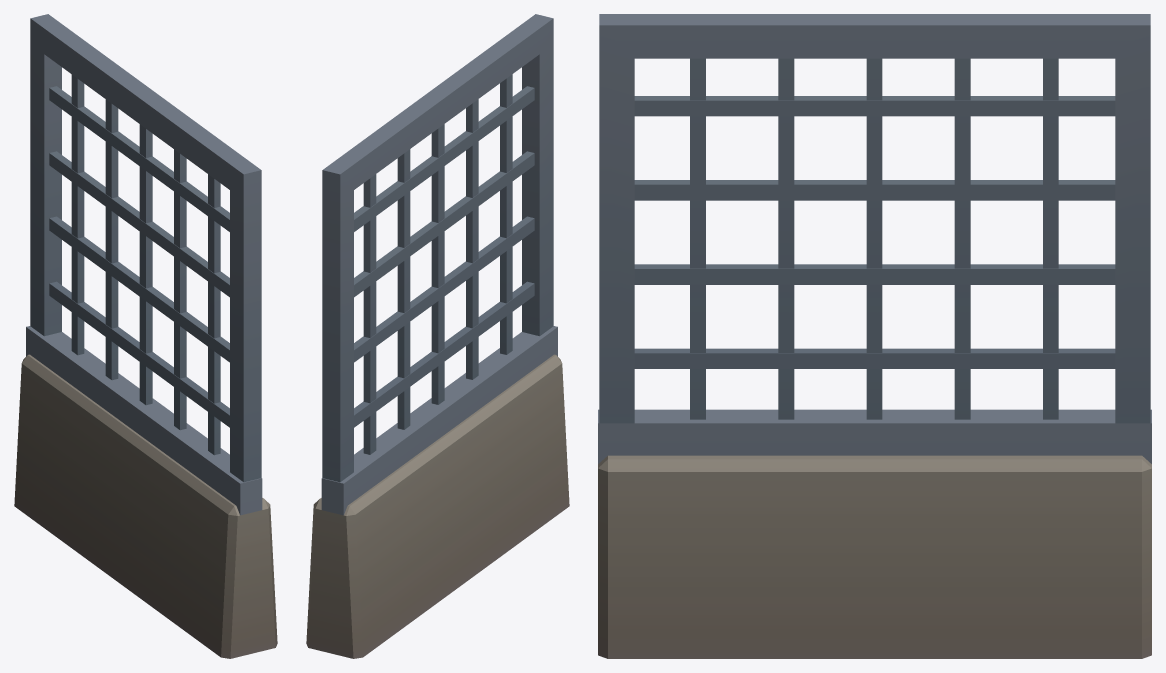
File: Fence_1_A_5.glb
3 renders of one model, left to right at view 1: azimuth 30°, elevation 25°; view 2: azimuth 150°, elevation 25°; view 3: azimuth 270°, elevation 25°, orthographic. The views are drawn at different scales.
Parts seen in each view (by area): view 1: Fence_1_A_5; view 2: Fence_1_A_5; view 3: Fence_1_A_5.
Boxes of the visible parts, left/top/right/bottom form: Fence_1_A_5: left=14, top=14, right=277, bottom=658; Fence_1_A_5: left=306, top=14, right=569, bottom=658; Fence_1_A_5: left=598, top=14, right=1151, bottom=658.
Size of the model in its own units: 0.3052 by 2.48 by 2.
Materials: 2 (2 with a texture image).
